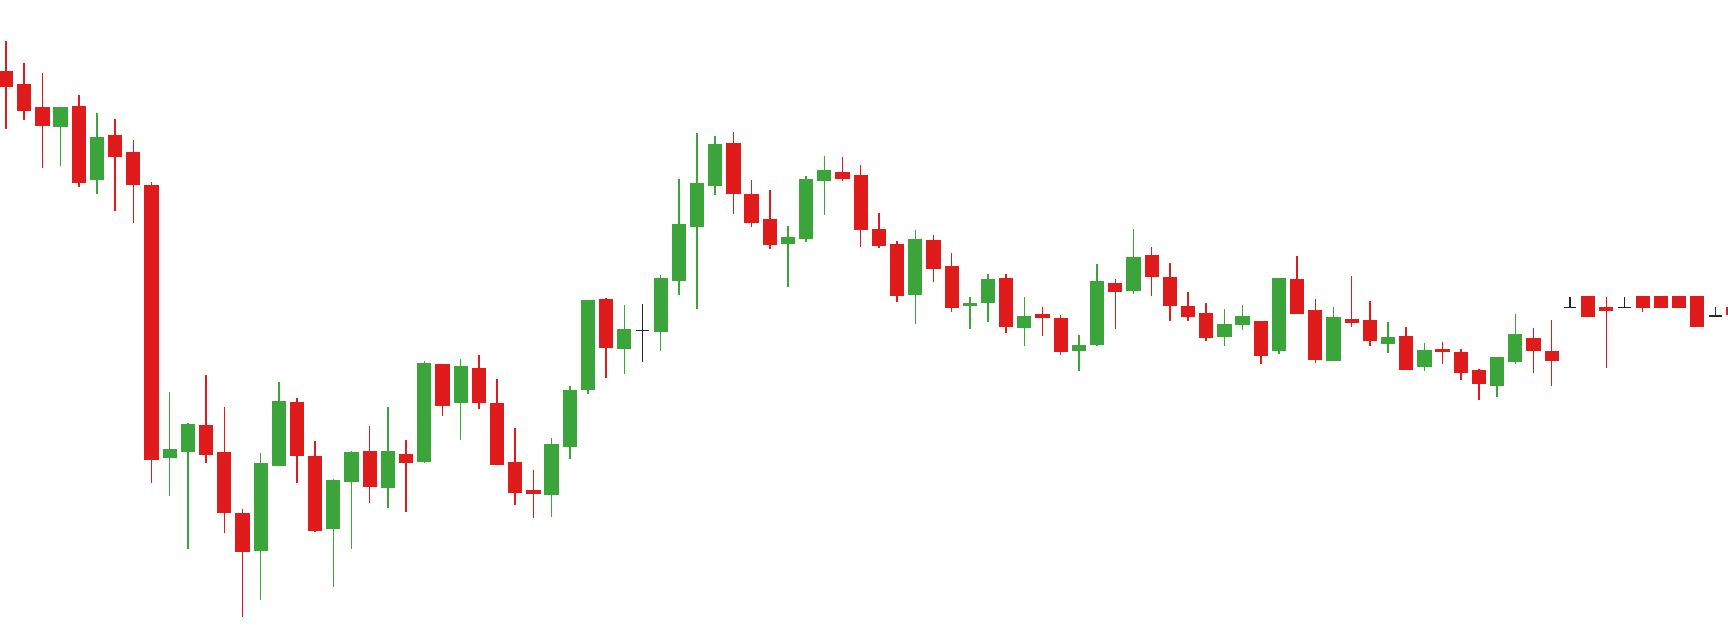buy: (395, 391, 564, 521)
